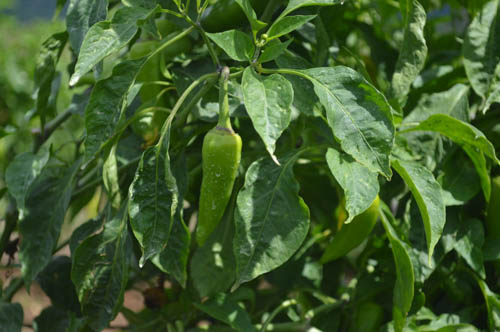ChiliPepper: (196, 133, 240, 244), (319, 202, 383, 268), (130, 43, 165, 115)
